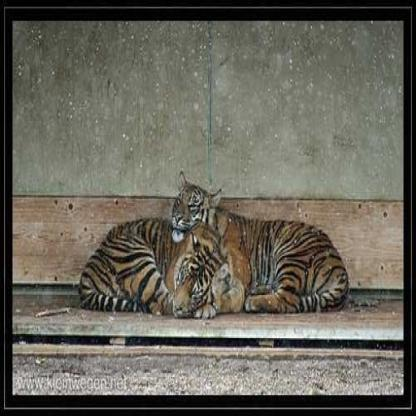Tiger: (160, 172, 356, 317), (63, 210, 230, 317)
